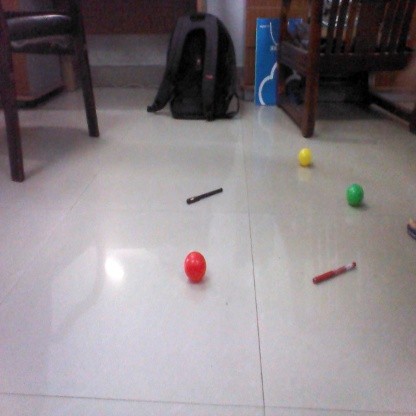ball: (182, 251, 207, 284), (346, 180, 366, 210), (295, 148, 315, 167)
pen: (312, 260, 354, 281), (187, 185, 226, 203)
